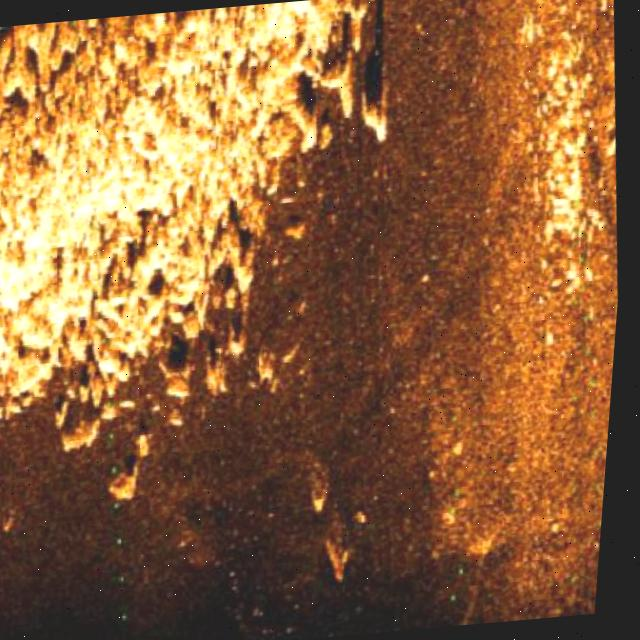bedrock group: (0, 0, 423, 521)
